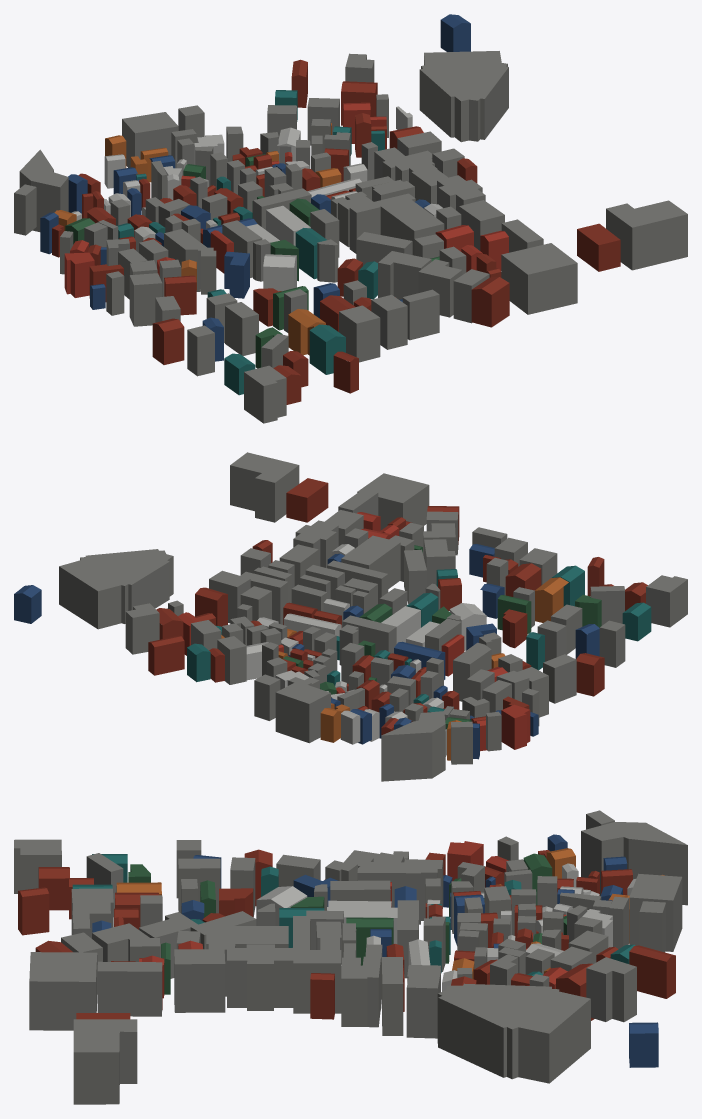
File: near-17-109441-59476.33c9fcc5.glb
3 views of the same model, one above another, from view 1: azimuth 30°, elevation 25°; view 2: azimuth 150°, elevation 25°; view 3: azimuth 270°, elevation 25° (orthographic). The views are drawn at different scales.
Size of the model in its own units: 301 by 70.56 by 305.
